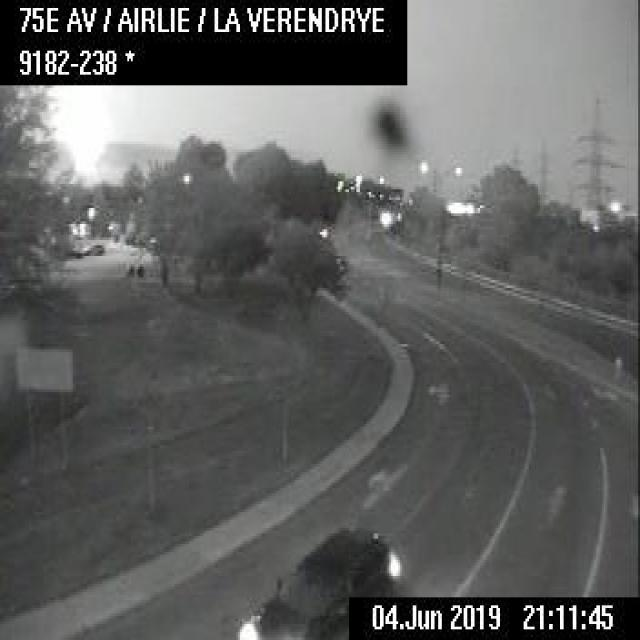vehicle: (233, 526, 402, 638), (77, 238, 103, 256)
